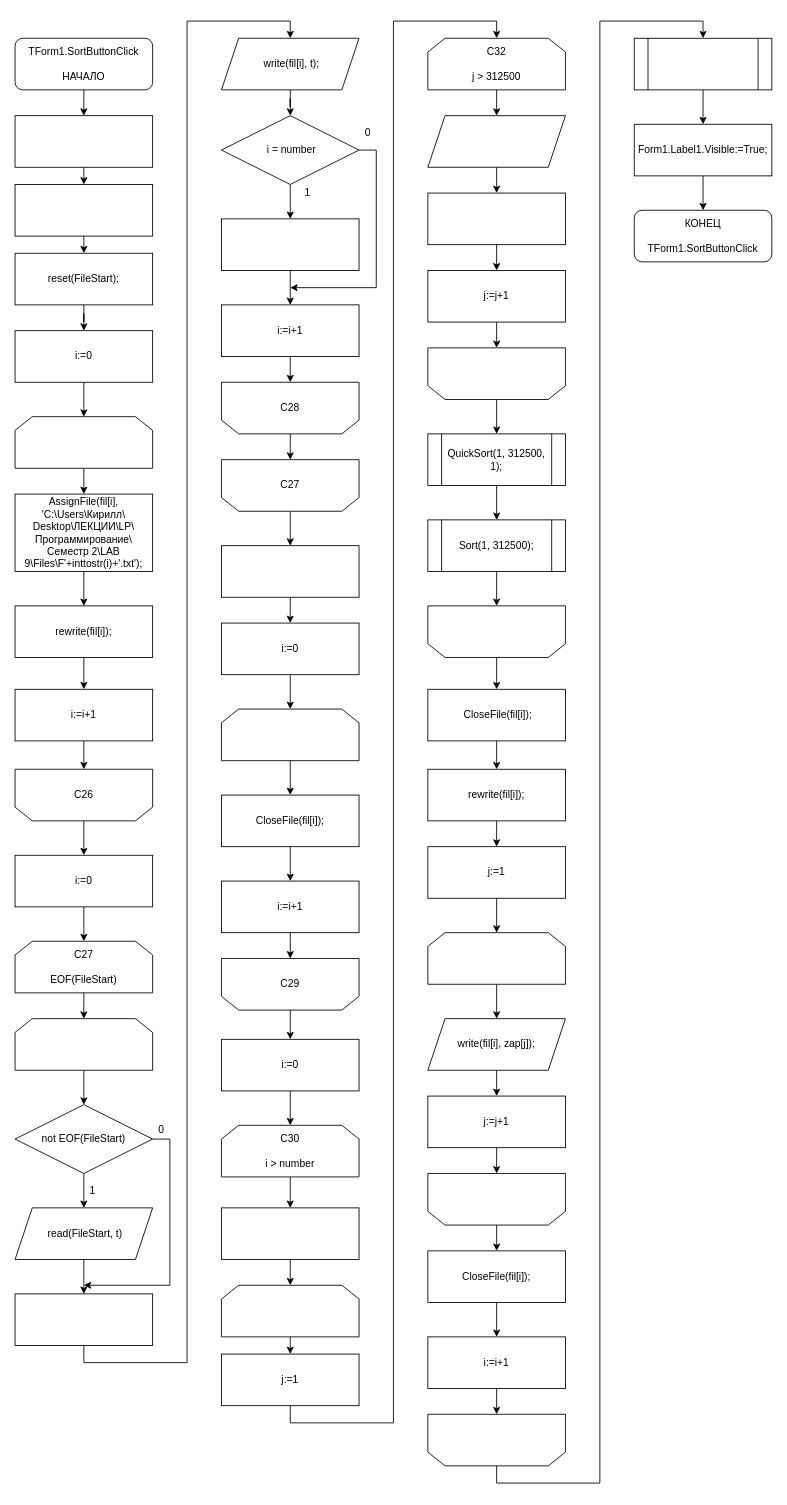
Image size: 787x1505. Some labels were removed from this diagram. The shapes that lost their labels are listed below. From the top down, each one's centre as x and y in pixels, then its label:
the point at 702,63: sliv;
the point at 83,141: Form1.Label1.Visible:=False;
the point at 496,141: read(fil[i], t);
the point at 83,210: AssignFile(FileStart, PathStart);
the point at 496,218: zap[j]:= t;
the point at 290,244: i:=-1
the point at 496,373: C32
the point at 83,442: C26 i > number
the point at 290,571: CloseFile(FileStart);
the point at 496,631: C31
the point at 290,734: C29 i > number
the point at 496,958: C33 j > 312500
the point at 83,1044: C28 i > number
the point at 496,1199: C33
the point at 290,1233: Reset(fil[i]);
the point at 83,1319: break
the point at 290,1310: C31 EOF(Fil[i])
the point at 496,1439: C30
